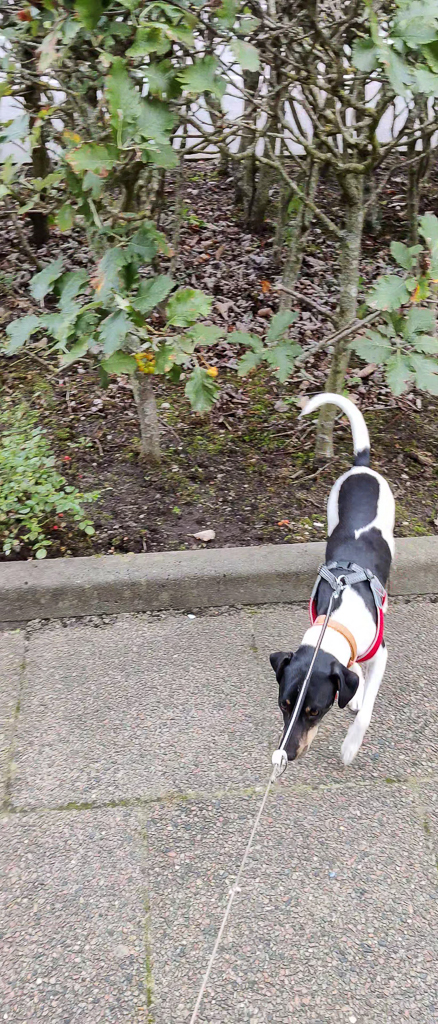Dog: (238, 383, 417, 782)
